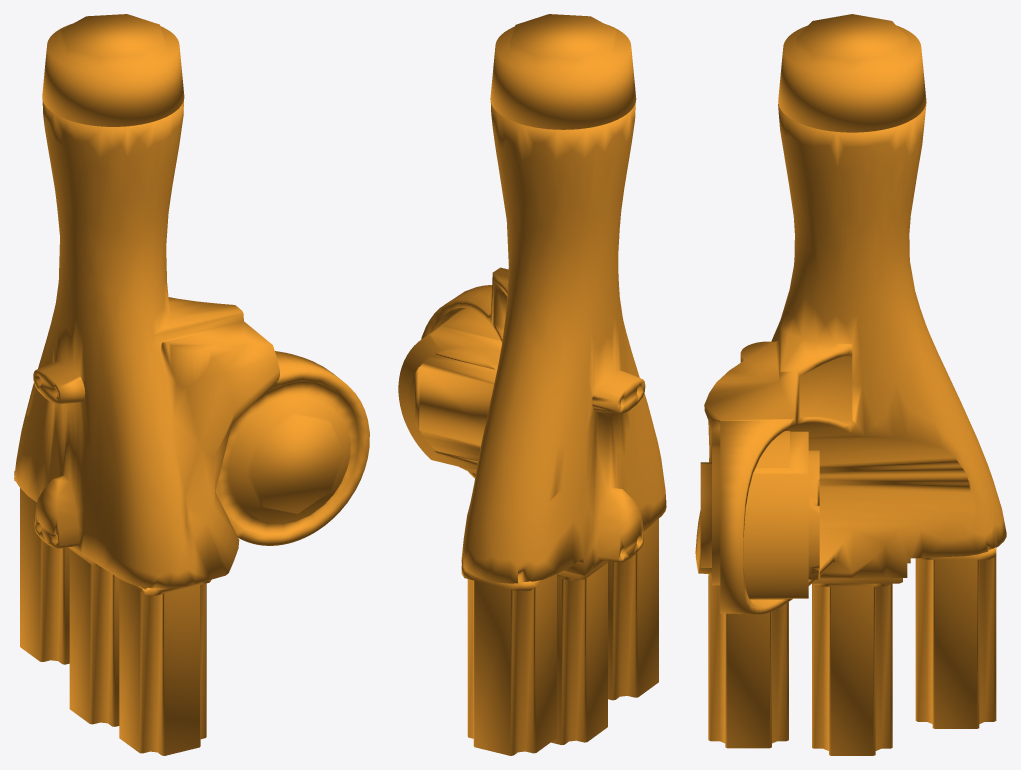
Rendered from KukaKR5ArcLink3.dae.
3 views of the same model, side by side, from view 1: azimuth 30°, elevation 25°; view 2: azimuth 150°, elevation 25°; view 3: azimuth 270°, elevation 25° (orthographic). The views are drawn at different scales.
Visible parts, largest first — view 1: link3; view 2: link3; view 3: link3.
Part boxes in pixels (x1,y1,x2,y2): link3: (14,14,369,755); link3: (398,14,666,755); link3: (695,14,1006,755).
Bounding box in the file's own units: 0.2791 × 0.2775 × 0.6895.
